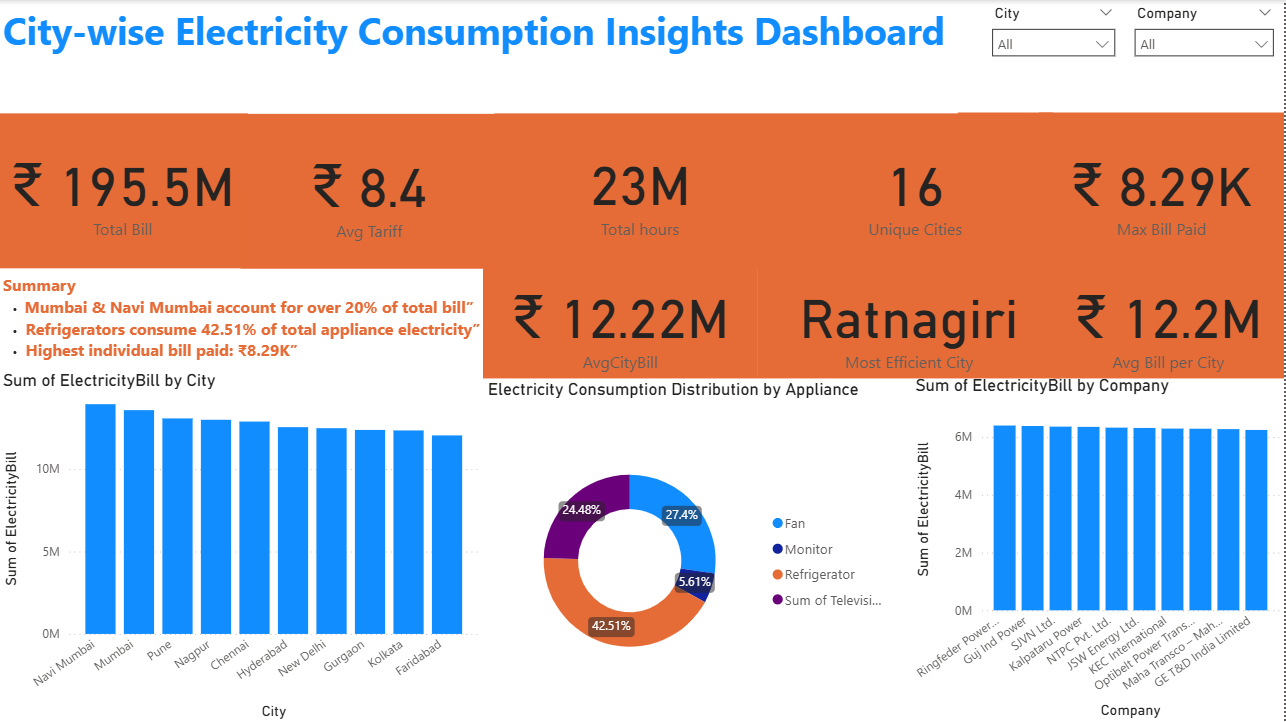

Layout of this report page (visuals, bound fields, positions):
{"tool":"powerbi","page":{"name":"electricity consumption","canvas":[1280,720],"ordinal":0},"visuals":[{"type":"card","fields":{"Values":["electricity.Total Bill"]},"box":[0,112,248.8,155.5],"z":0},{"type":"card","fields":{"Values":["electricity.Avg Tariff"]},"box":[240.9,112.6,256.6,155.4],"z":1000},{"type":"card","fields":{"Values":["electricity.Total hours"]},"box":[494,112.5,290.9,155.1],"z":2000},{"type":"card","fields":{"Values":["electricity.Unique Cities"]},"box":[776.2,112,273.7,155.5],"z":3000},{"type":"card","fields":{"Values":["electricity.Max Bill Paid"]},"box":[1036.2,112,243.8,155.5],"z":4000},{"type":"columnChart","fields":{"Category":["electricity.City"],"Y":["Sum(electricity.ElectricityBill)"]},"box":[0,367.8,483,352.7],"z":5000},{"type":"donutChart","title":"Electricity Consumption Distribution by Appliance","fields":{"Y":["Sum(electricity.Fan)","Sum(electricity.Monitor)","Sum(electricity.Refrigerator)","Sum(electricity.Television)"]},"box":[482.7,376.9,414.2,343.3],"z":6000},{"type":"textbox","box":[0,0,955.1,112.5],"z":7000},{"type":"columnChart","fields":{"Category":["electricity.Company"],"Y":["Sum(electricity.ElectricityBill)"]},"box":[908.4,373.2,371.9,347.2],"z":8000},{"type":"slicer","fields":{"Values":["electricity.City"]},"box":[978.4,0,142.7,56.3],"z":9000},{"type":"slicer","fields":{"Values":["electricity.Company"]},"box":[1121.1,0,159.2,78.2],"z":10000},{"type":"textbox","box":[0,267.6,526.9,100.2],"z":11000},{"type":"card","fields":{"Values":["electricity.AvgCityBill"]},"box":[482.7,266.2,273.7,110.7],"z":13000},{"type":"card","fields":{"Values":["electricity.Min_Cost_City"]},"box":[756.3,266.2,301,110.7],"z":14000},{"type":"card","fields":{"Values":["electricity.Avg Bill per City"]},"box":[1049.9,266.2,230.1,110.7],"z":15000}]}

Visuals, with their boxes in screenshot pixels (x1, y1, x2, y2), scaled from the page's 1280x720 canvas onto the 1286x722 screenshot:
card - electricity.Total Bill: <bbox>0, 112, 250, 268</bbox>
card - electricity.Avg Tariff: <bbox>242, 113, 500, 269</bbox>
card - electricity.Total hours: <bbox>496, 113, 789, 268</bbox>
card - electricity.Unique Cities: <bbox>780, 112, 1055, 268</bbox>
card - electricity.Max Bill Paid: <bbox>1041, 112, 1285, 268</bbox>
columnChart - electricity.City x Sum(electricity.ElectricityBill): <bbox>0, 369, 485, 721</bbox>
"Electricity Consumption Distribution by Appliance" donutChart: <bbox>485, 378, 901, 721</bbox>
textbox: <bbox>0, 0, 960, 113</bbox>
columnChart - electricity.Company x Sum(electricity.ElectricityBill): <bbox>913, 374, 1285, 721</bbox>
slicer - electricity.City: <bbox>983, 0, 1126, 56</bbox>
slicer - electricity.Company: <bbox>1126, 0, 1285, 78</bbox>
textbox: <bbox>0, 268, 529, 369</bbox>
card - electricity.AvgCityBill: <bbox>485, 267, 760, 378</bbox>
card - electricity.Min_Cost_City: <bbox>760, 267, 1062, 378</bbox>
card - electricity.Avg Bill per City: <bbox>1055, 267, 1285, 378</bbox>
